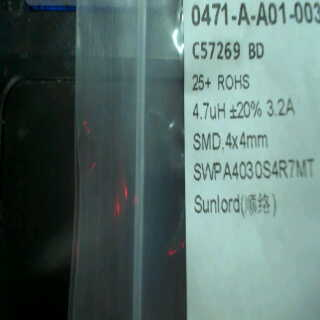4.7uH: (191, 97, 231, 124)
